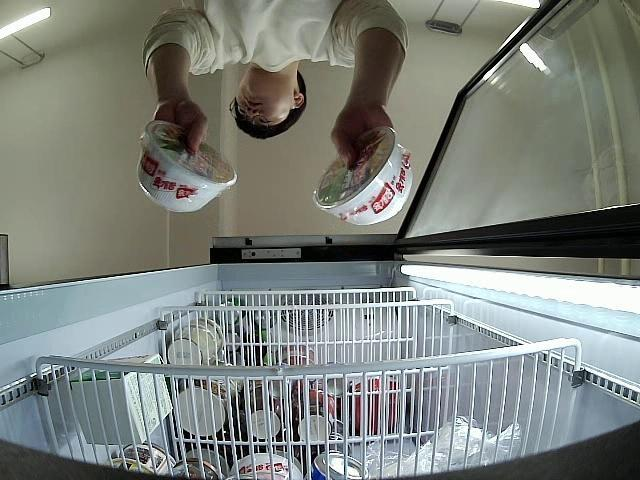09_yukGaeJang: (135, 120, 239, 216), (314, 127, 414, 226)
